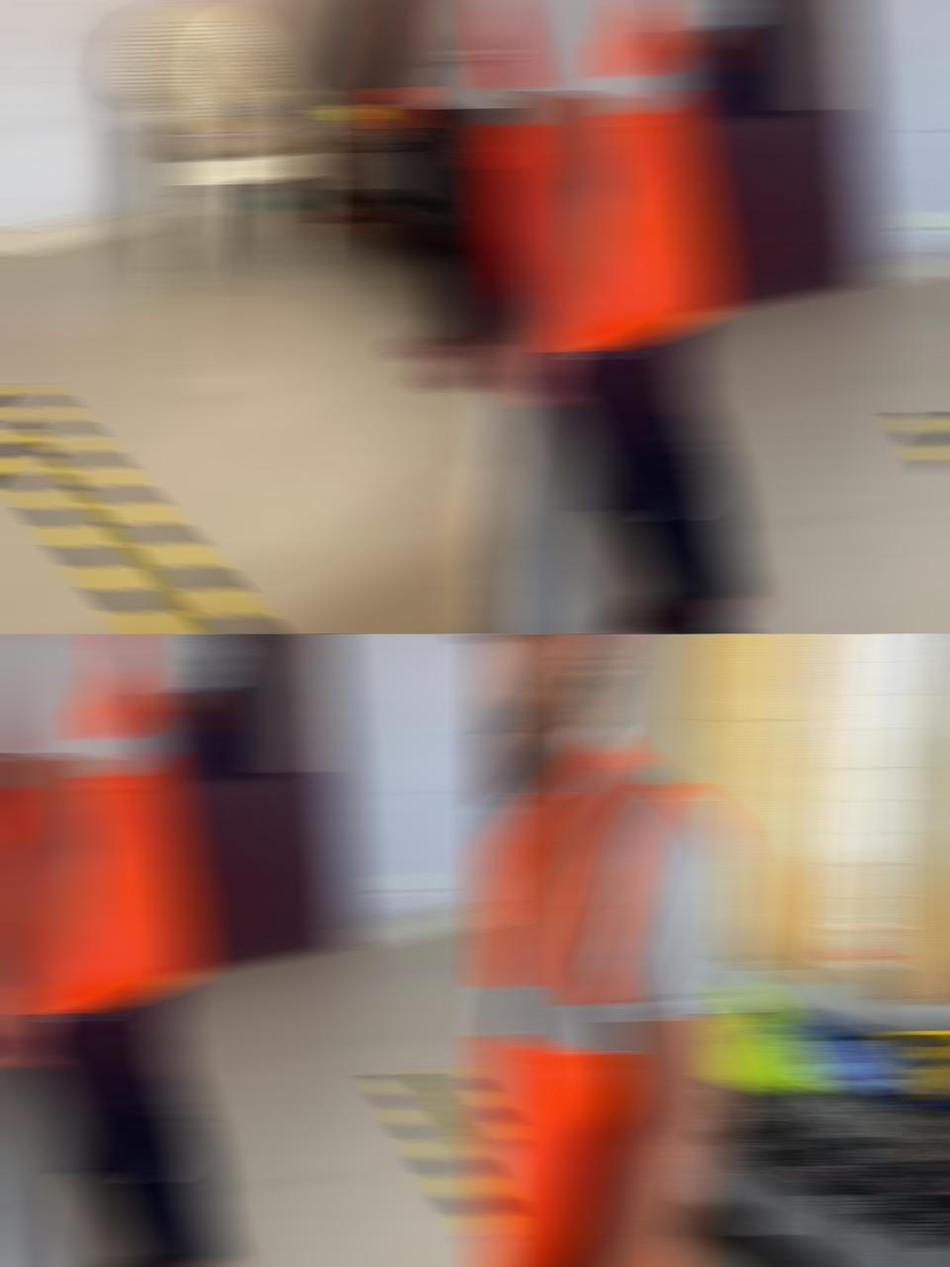BorderLine: (2, 382, 283, 634), (0, 395, 214, 634), (376, 1063, 505, 1267), (897, 401, 950, 616)
No_Vest: (379, 0, 505, 109)
Person: (482, 0, 755, 634), (482, 634, 751, 1267), (0, 634, 233, 1267), (356, 0, 505, 390)
Vest: (482, 725, 743, 1267), (482, 0, 724, 351), (0, 634, 202, 1014)
